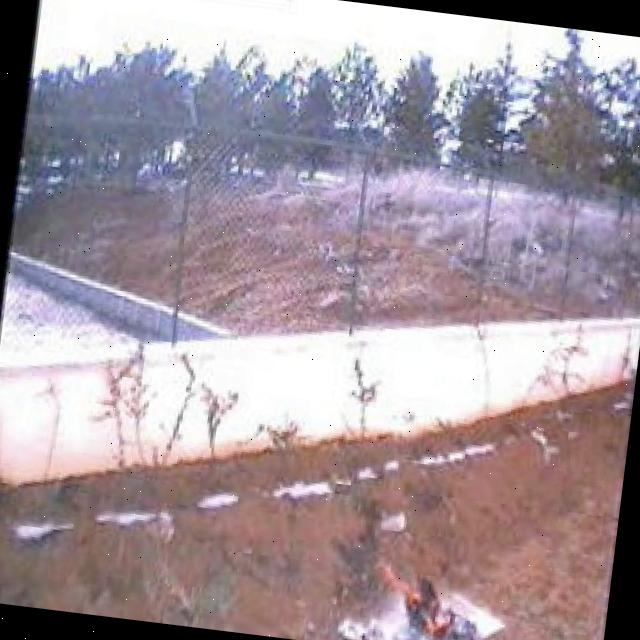fire: (365, 549, 474, 640)
